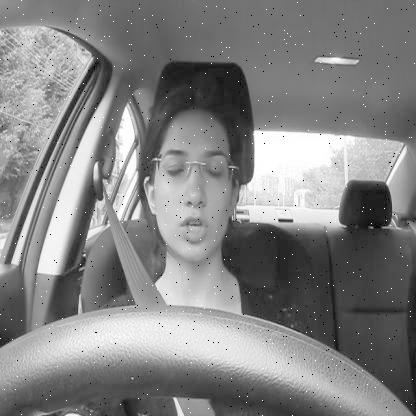seatbelt: (94, 66, 245, 312)
